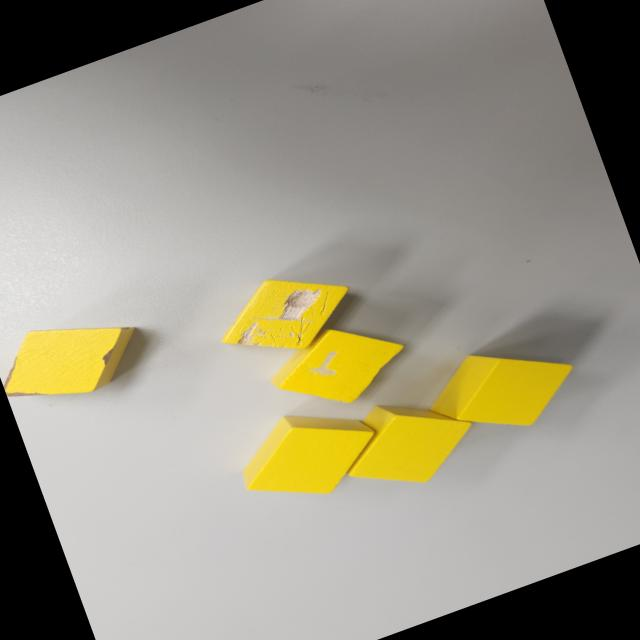broken: (204, 253, 364, 378), (0, 295, 154, 422), (258, 306, 418, 428)
yellow: (414, 321, 589, 458), (226, 386, 392, 521), (328, 376, 486, 508)
